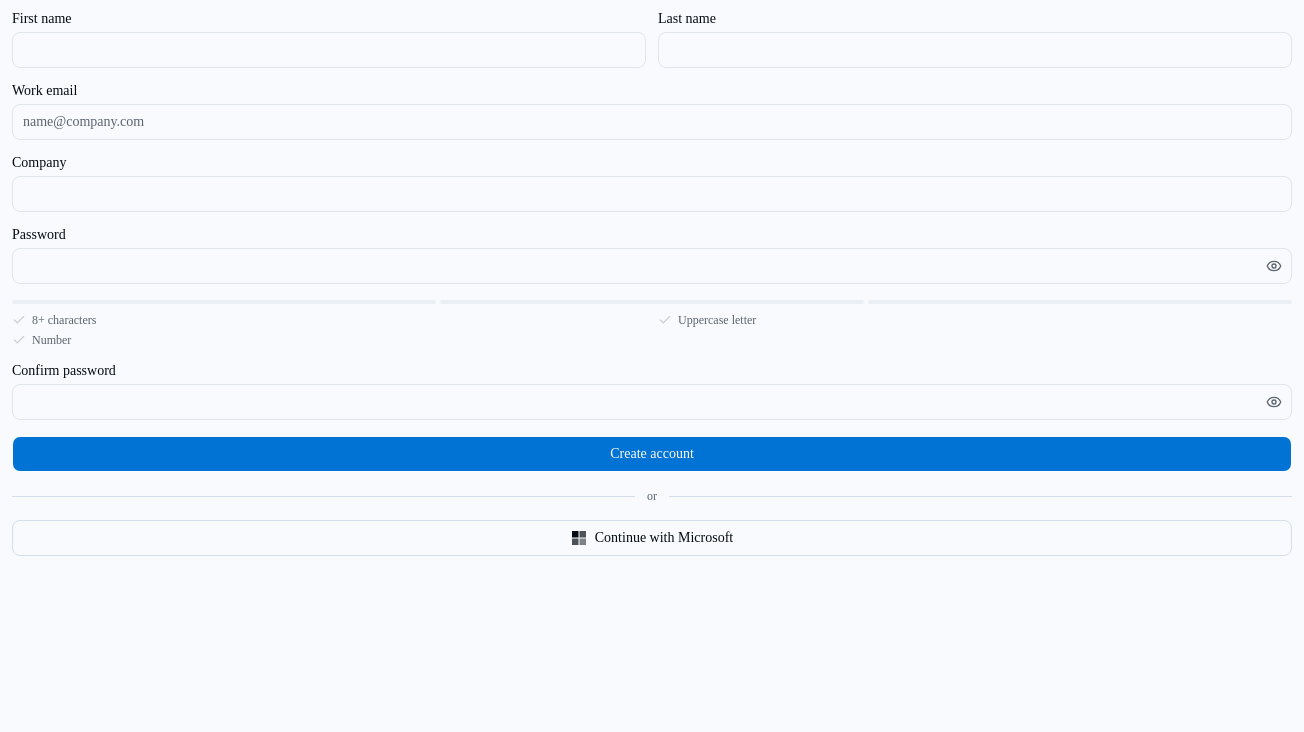
RegisterForm › shows every field error inline, not just the confirm-password one
The image size is (1304, 732).
Step 1. Click the button "Create account" → (652, 454), box [12,436,1292,472]
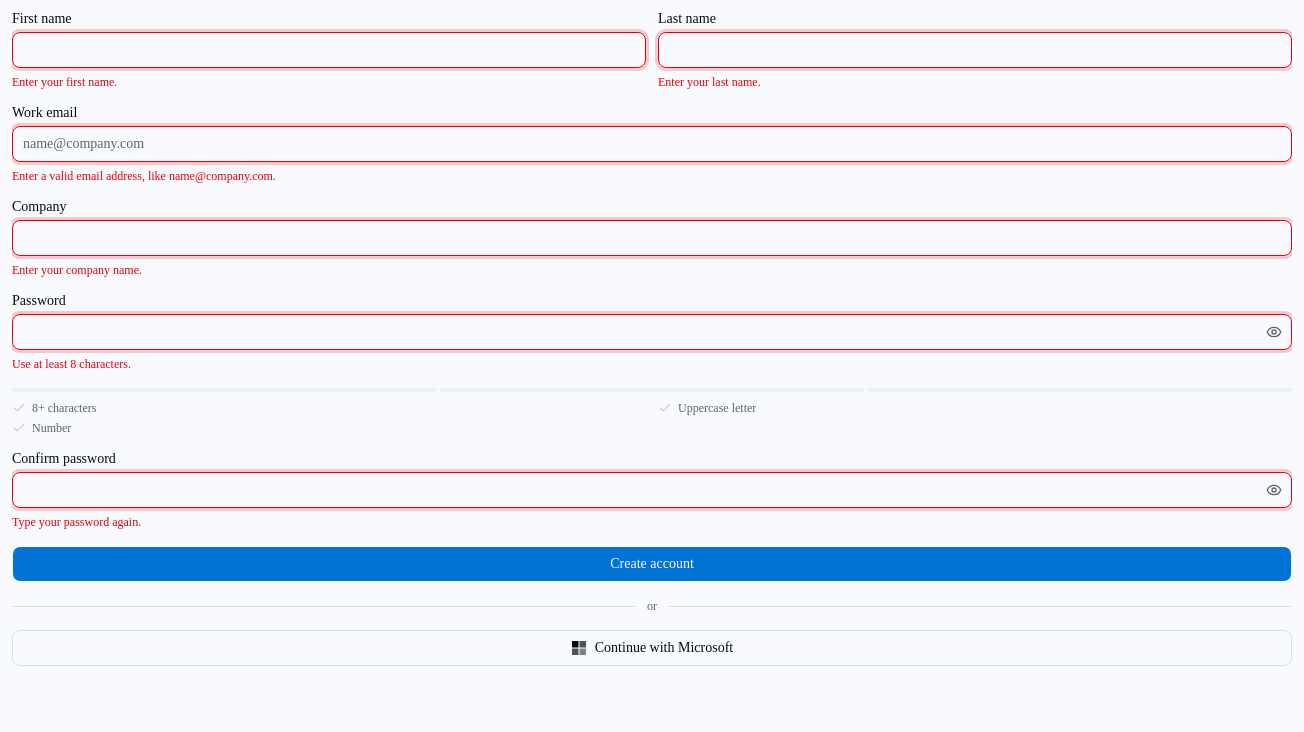
Check: the text "Enter your first name." is shown, box [12,75,117,89]
Check: the text "Enter your last name." is shown, box [658,75,761,89]
Check: the text "Enter a valid email address, like name@company.com." is shown, box [12,169,276,183]
